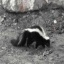skunk: (13, 26, 51, 49)
